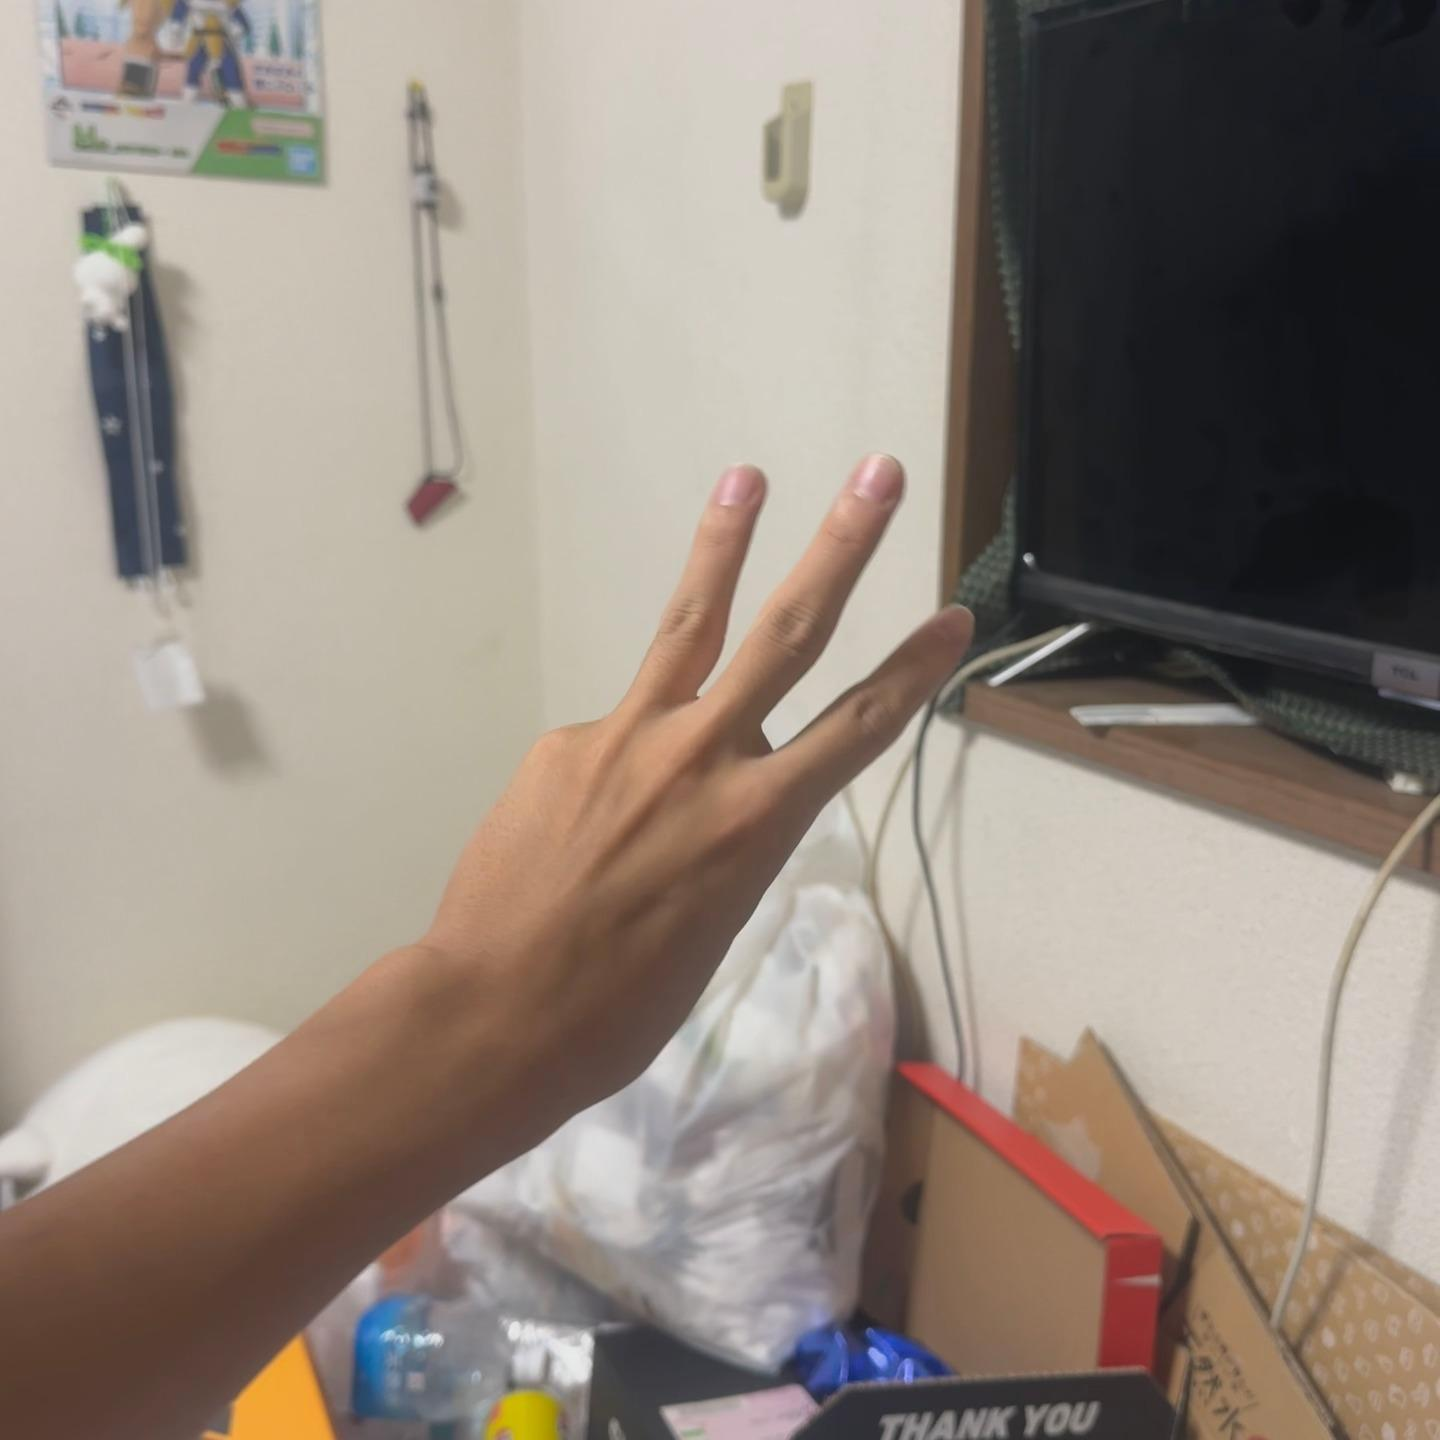without_gloves: (402, 352, 1075, 1236)
